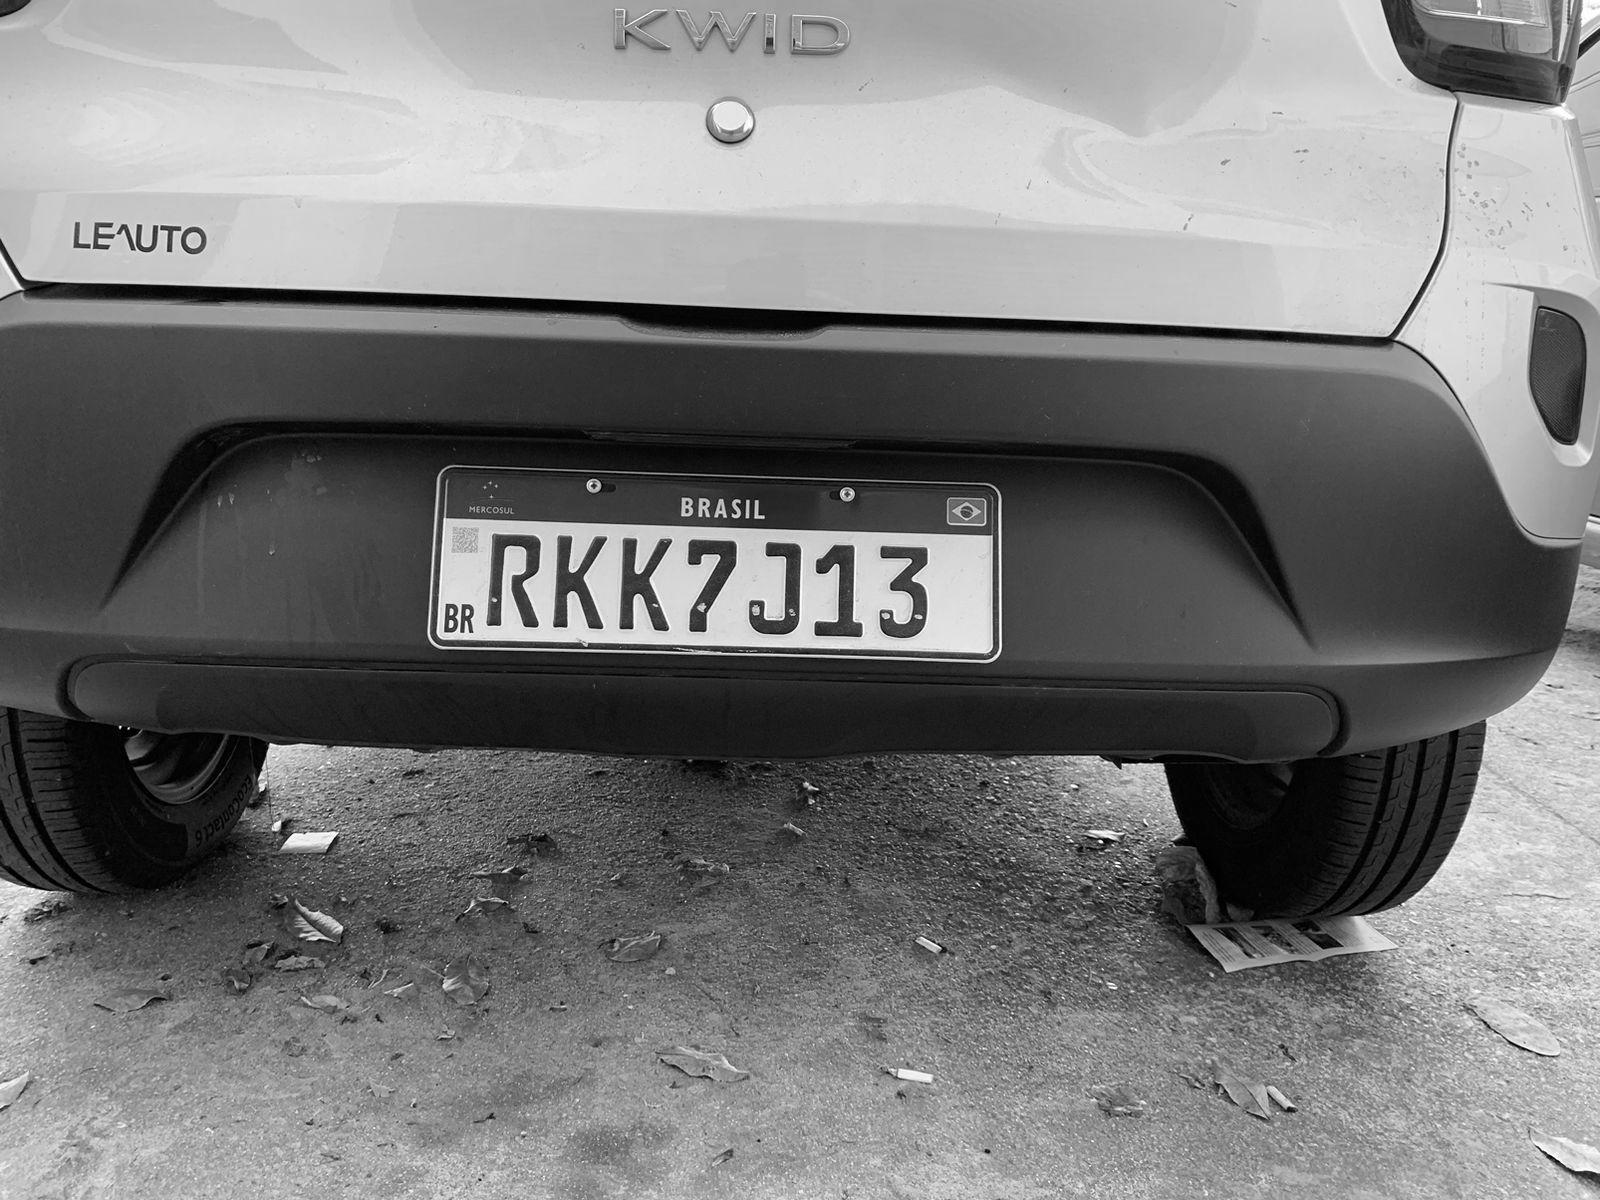placa_mercosul: (429, 468, 1001, 663)
